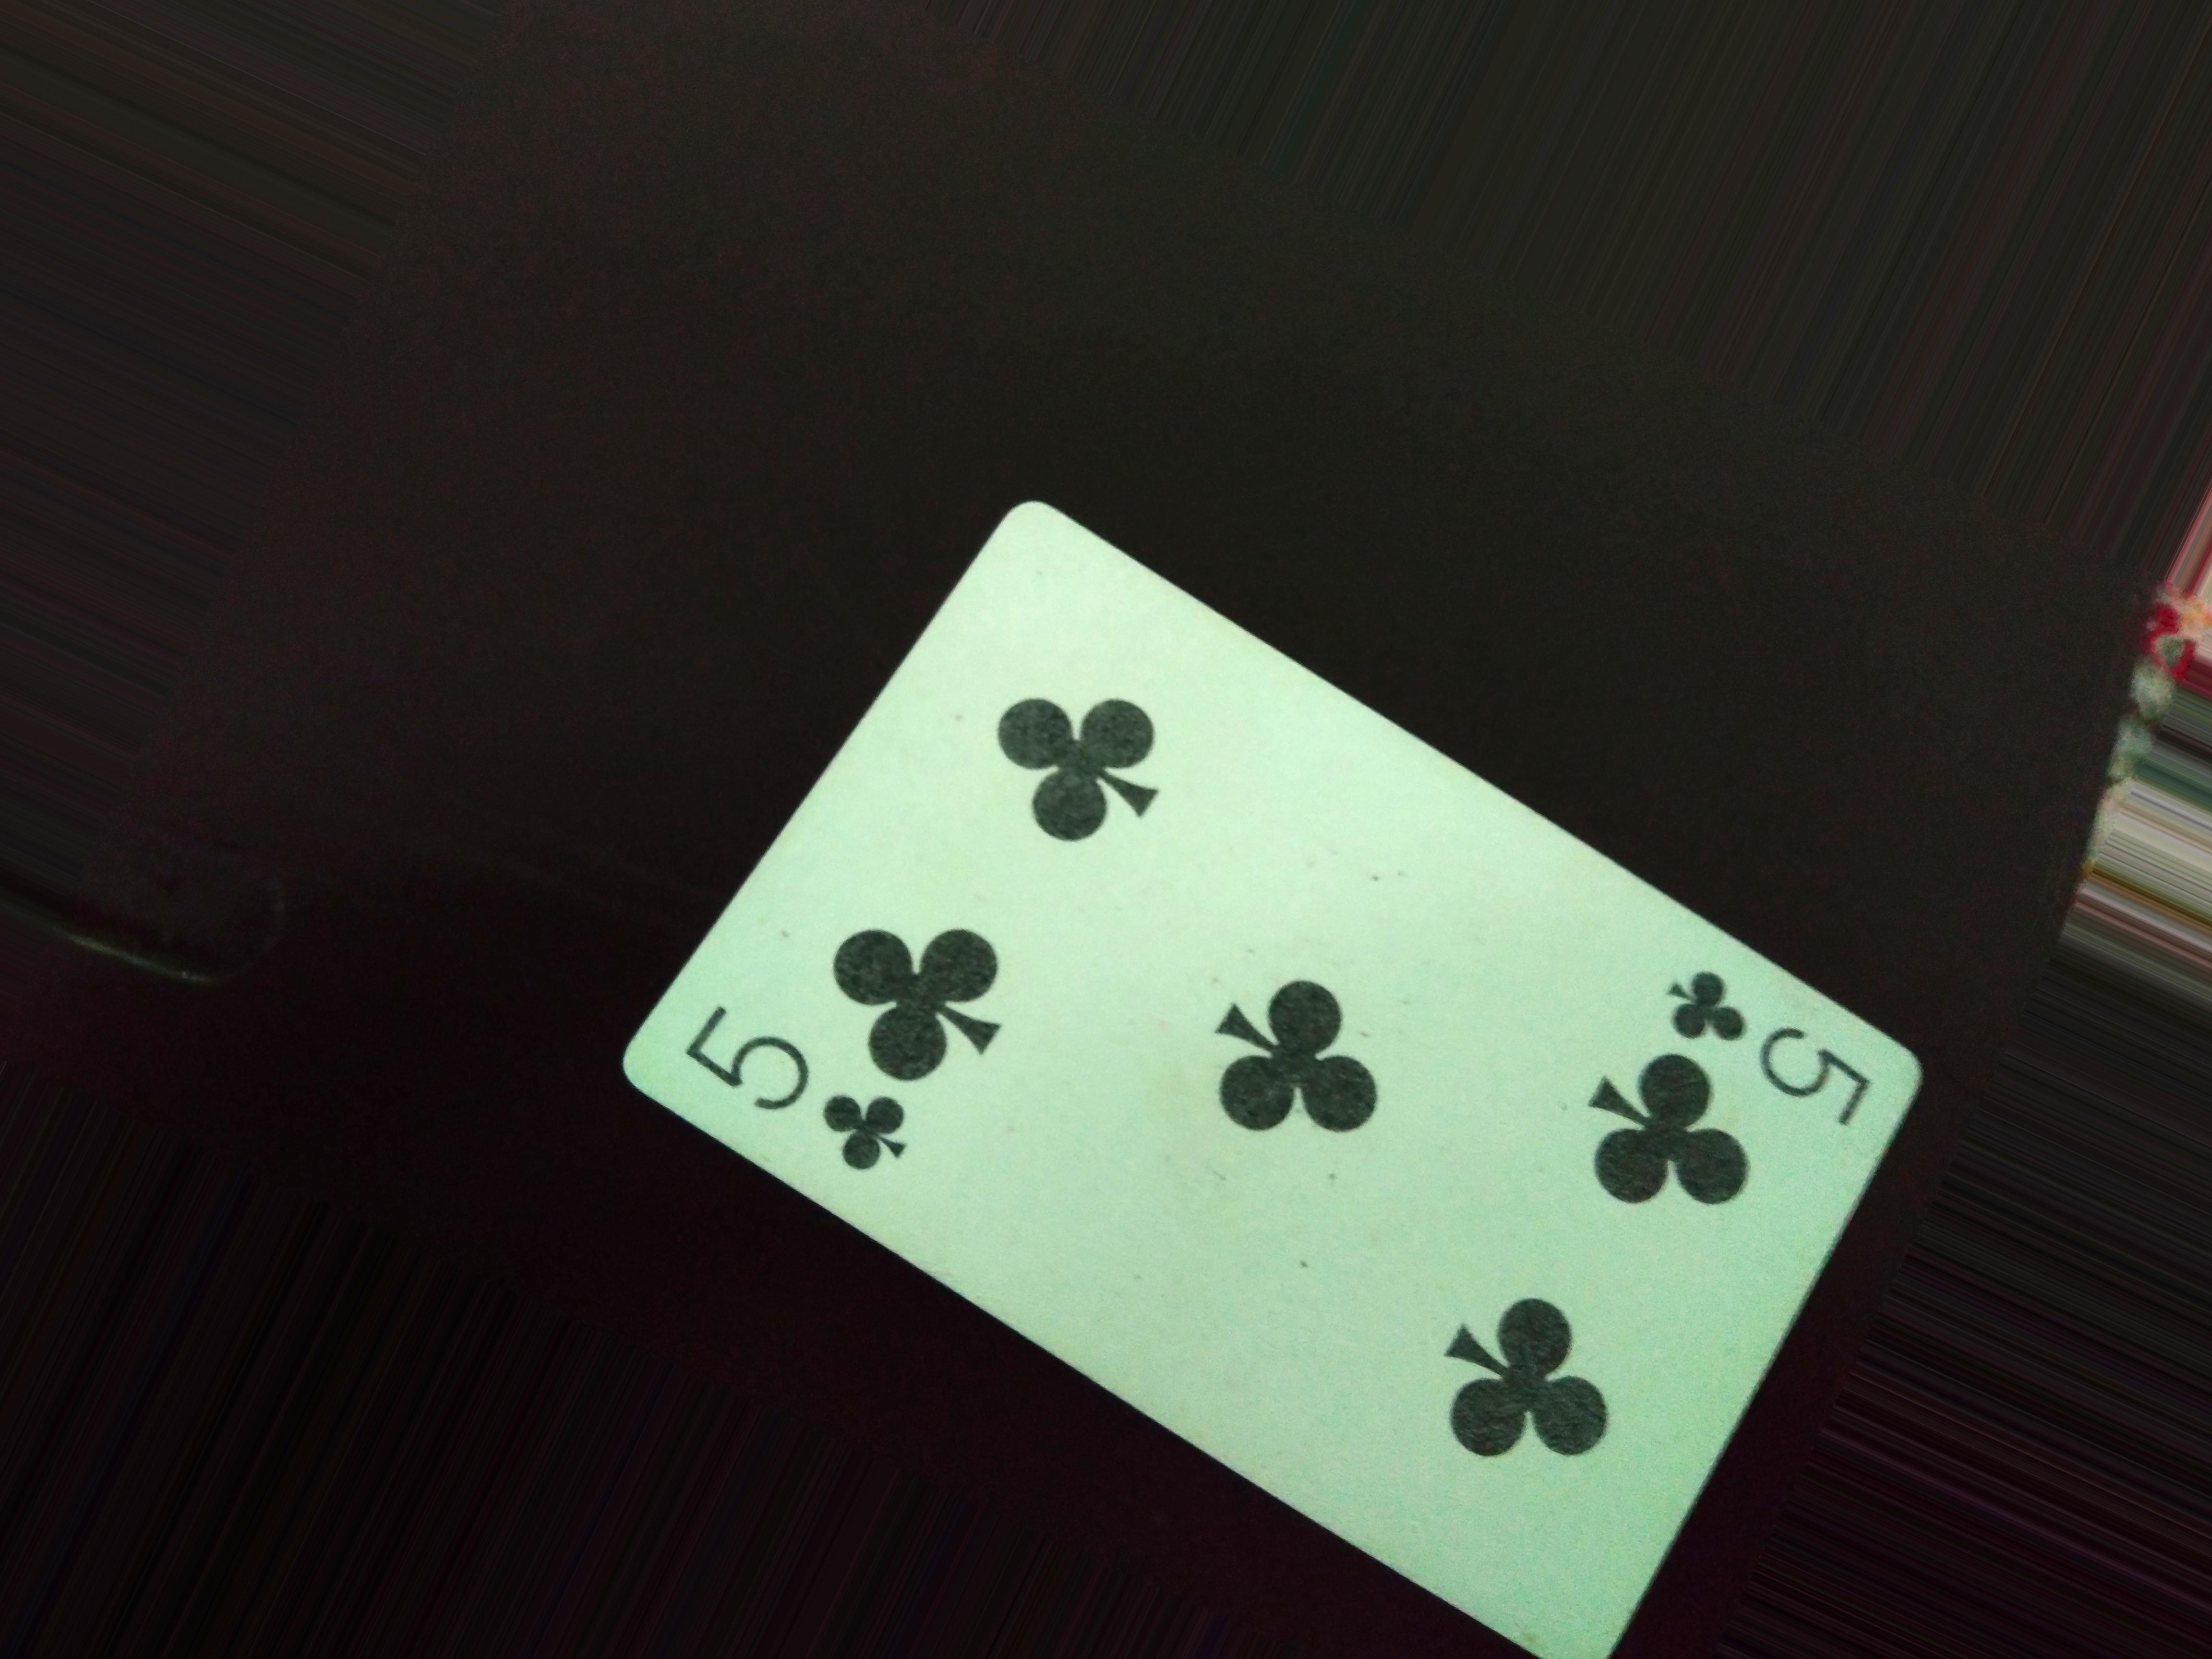5C: (1662, 964, 1902, 1138)
